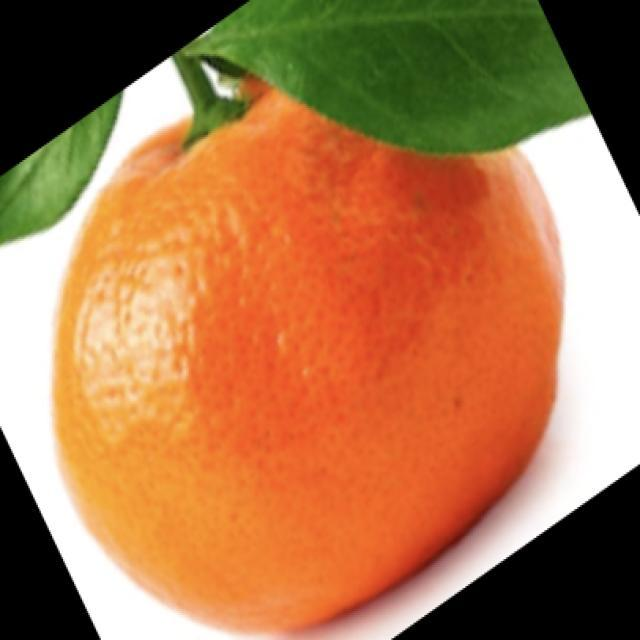matang: (54, 83, 561, 631)
